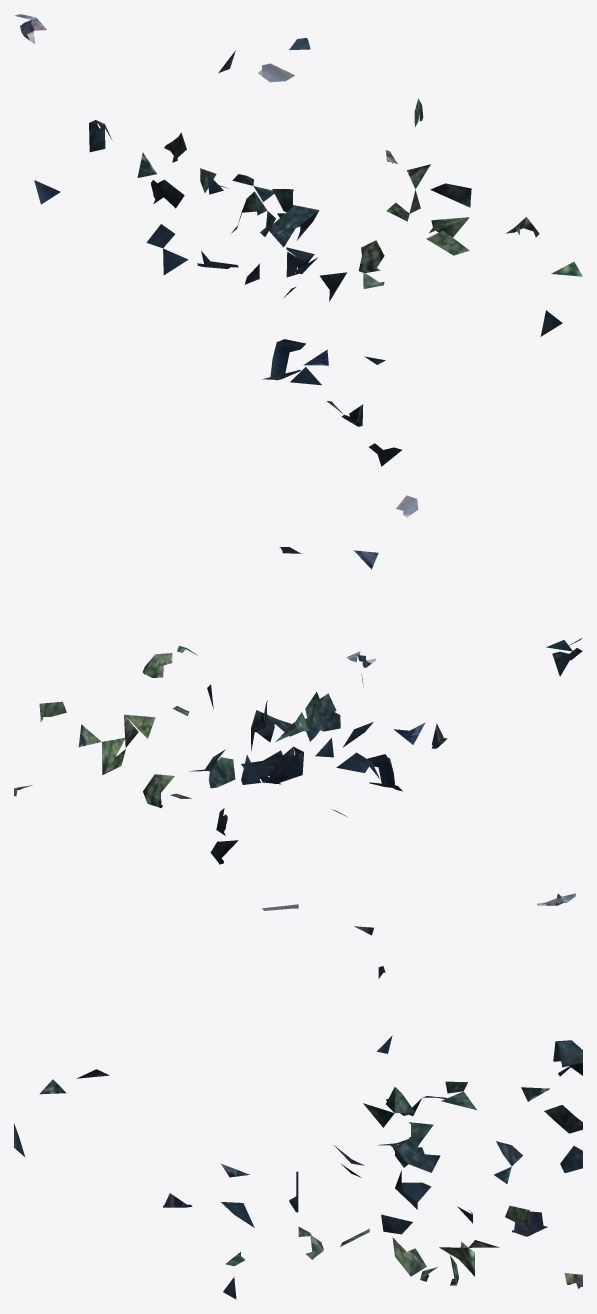
3 renders of one model, top to bottom at view 1: azimuth 30°, elevation 25°; view 2: azimuth 150°, elevation 25°; view 3: azimuth 270°, elevation 25°, orthographic. The views are drawn at different scales.
Parts seen in each view (by area): view 1: 30436272704361415624_1; view 2: 30436272704361415624_1; view 3: 30436272704361415624_1.
Part boxes in pixels (bbox=[...]): 30436272704361415624_1: bbox=[14, 14, 582, 466]; 30436272704361415624_1: bbox=[14, 495, 582, 864]; 30436272704361415624_1: bbox=[14, 893, 582, 1299].
Bounding box in the file's own units: 27.31 × 21.57 × 38.26.
1 material, 1 textured.
